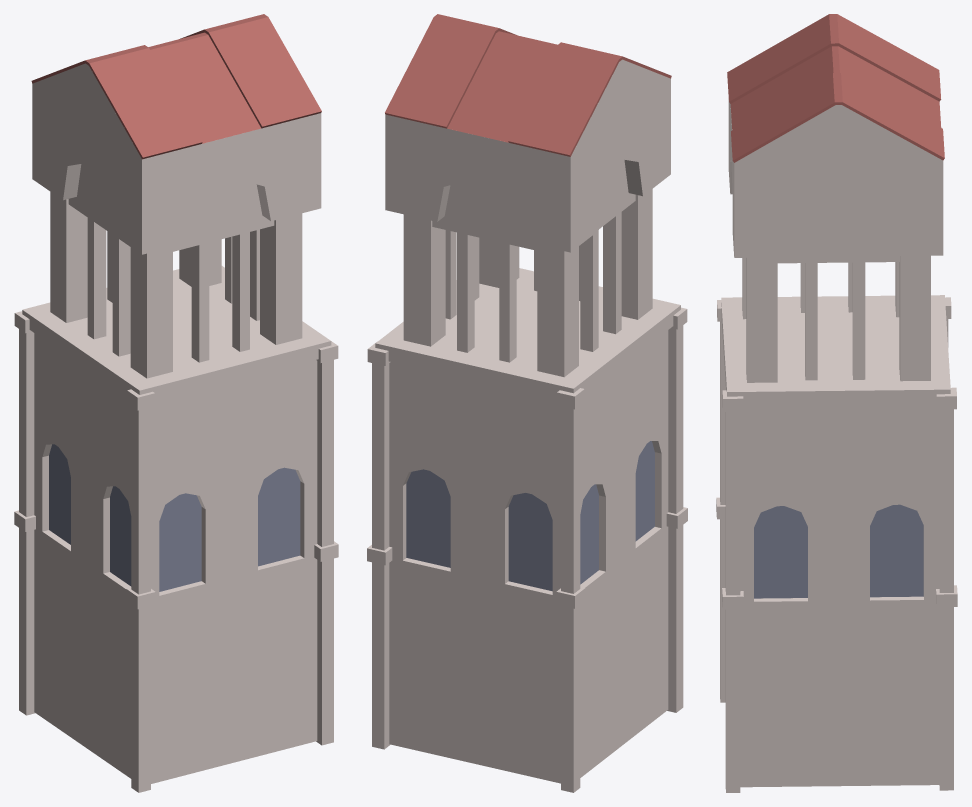
Rendered from building_4.glb.
3 renders of one model, left to right at view 1: azimuth 30°, elevation 25°; view 2: azimuth 150°, elevation 25°; view 3: azimuth 270°, elevation 25°, orthographic.
Visible parts, largest first — view 1: Cube.1083; view 2: Cube.1083; view 3: Cube.1083.
Boxes of the visible parts, x1,y1,x2,y2 form: Cube.1083: (14, 14, 338, 792); Cube.1083: (367, 14, 687, 792); Cube.1083: (716, 14, 957, 792).
Bounding box in the file's own units: 0.0787 × 0.2465 × 0.0786.
